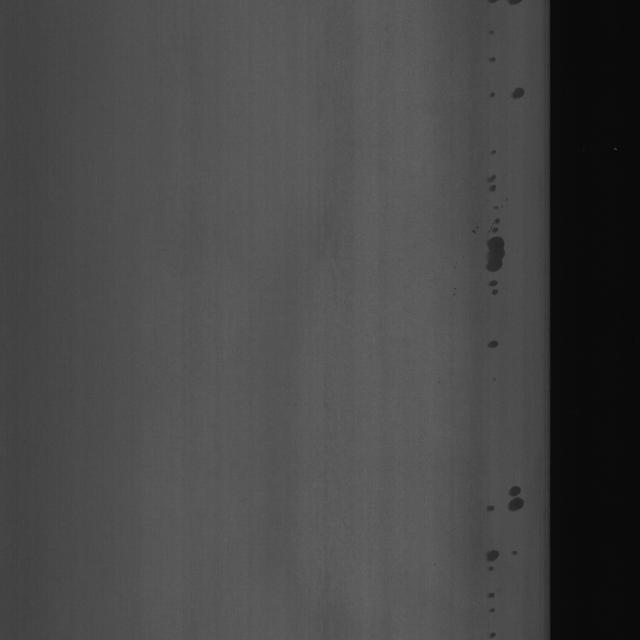welding_line: (481, 170, 510, 366), (505, 53, 533, 112), (509, 476, 527, 528), (483, 540, 504, 572)
